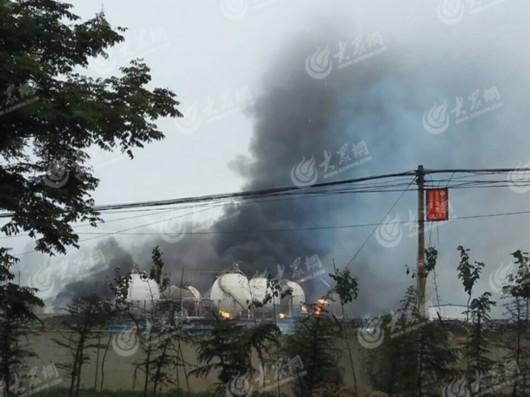fire: (425, 187, 448, 218), (307, 297, 328, 315), (218, 308, 233, 319), (277, 309, 285, 318)
